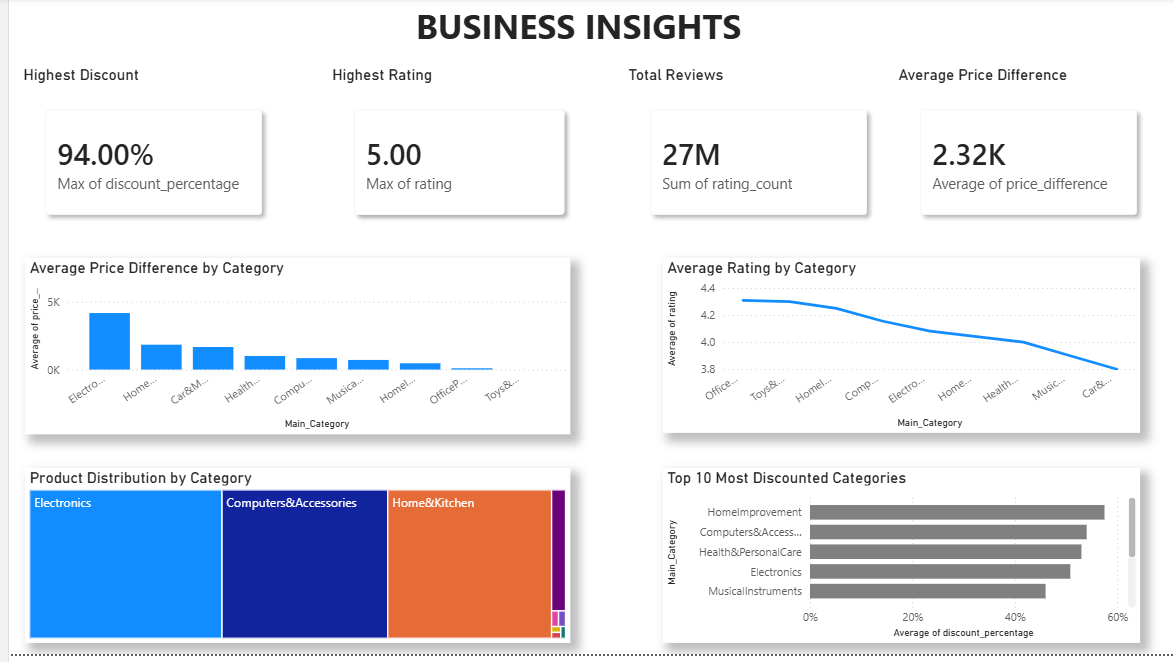

This screenshot's page, from the dashboard's own definition file:
{"tool":"powerbi","page":{"name":"Business Insights","canvas":[1280,720],"ordinal":2},"visuals":[{"type":"textbox","box":[441.9,0,424,74.1],"z":0},{"type":"cardVisual","title":"Highest Discount","fields":{"Data":["Max(amazon_clean.discount_percentage)"]},"box":[11,74.1,296.4,193.5],"z":1000},{"type":"cardVisual","title":"Highest Rating","fields":{"Data":["Max(amazon_clean.rating)"]},"box":[349.9,74.1,289.5,193.5],"z":2000},{"type":"cardVisual","title":"Total Reviews","fields":{"Data":["Sum(amazon_clean.rating_count)"]},"box":[675.1,74.1,296.4,193.5],"z":3000},{"type":"cardVisual","title":"Average Price Difference","fields":{"Data":["Avg(amazon_clean.price_difference)"]},"box":[971.5,74.1,296.4,193.5],"z":4000},{"type":"clusteredColumnChart","title":"Average Price Difference by Category","fields":{"Category":["amazon_clean.Main_Category"],"Y":["Avg(amazon_clean.price_difference)"]},"box":[17.8,285.4,598.3,193.5],"z":5000},{"type":"lineChart","title":"Average Rating by Category","fields":{"Category":["amazon_clean.Main_Category"],"Y":["Avg(amazon_clean.rating)"]},"box":[717.7,285.4,524.2,192.1],"z":6000},{"type":"treemap","title":"Product Distribution by Category","fields":{"Group":["amazon_clean.Main_Category"],"Values":["amazon_clean.Total Products"]},"box":[17.8,516,598.3,192.1],"z":7000},{"type":"barChart","title":"Top 10 Most Discounted Categories","fields":{"Category":["amazon_clean.Main_Category"],"Y":["Avg(amazon_clean.discount_percentage)"]},"box":[717.7,516,524.2,192.1],"z":8000}]}

Visuals, with their boxes in screenshot pixels (x1, y1, x2, y2), scaled from the page's 1280x720 canvas onto the 1174x662 screenshot:
textbox: [left=405, top=0, right=794, bottom=68]
"Highest Discount" cardVisual: [left=10, top=68, right=282, bottom=246]
"Highest Rating" cardVisual: [left=321, top=68, right=586, bottom=246]
"Total Reviews" cardVisual: [left=619, top=68, right=891, bottom=246]
"Average Price Difference" cardVisual: [left=891, top=68, right=1163, bottom=246]
"Average Price Difference by Category" clusteredColumnChart: [left=16, top=262, right=565, bottom=440]
"Average Rating by Category" lineChart: [left=658, top=262, right=1139, bottom=439]
"Product Distribution by Category" treemap: [left=16, top=474, right=565, bottom=651]
"Top 10 Most Discounted Categories" barChart: [left=658, top=474, right=1139, bottom=651]
